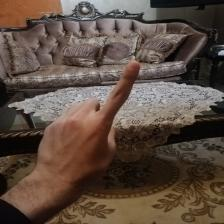one: (41, 62, 143, 176)
